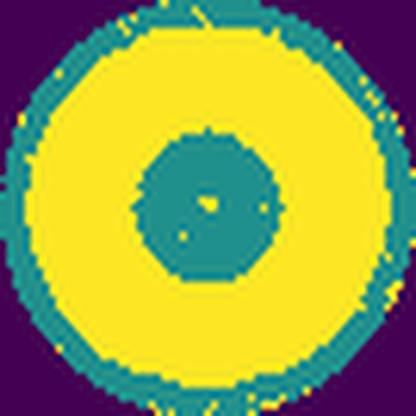Donut: (23, 24, 394, 392)
